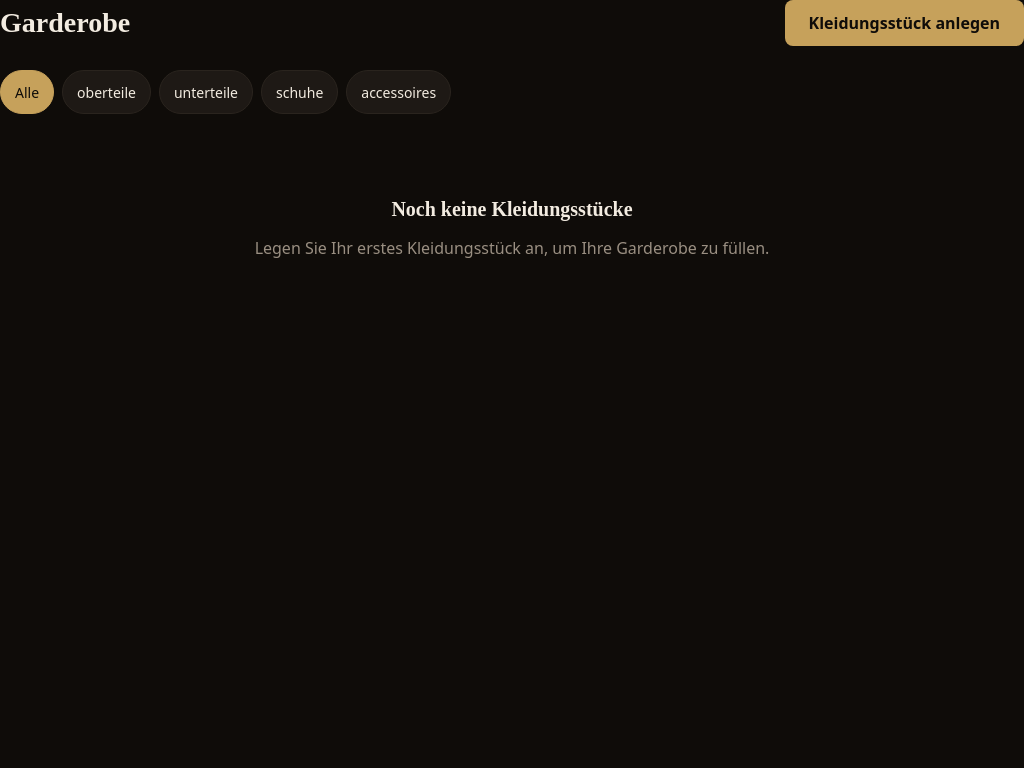
Test: WardrobePage – Anlegen › legt ein Kleidungsstück über das Formular an und zeigt es an
Expected: the heading "Noch keine Kleidungsstücke" is shown, [391,198,633,220]
Step 1. Click the button "Kleidungsstück anlegen" → (904, 23), box [785,0,1023,46]
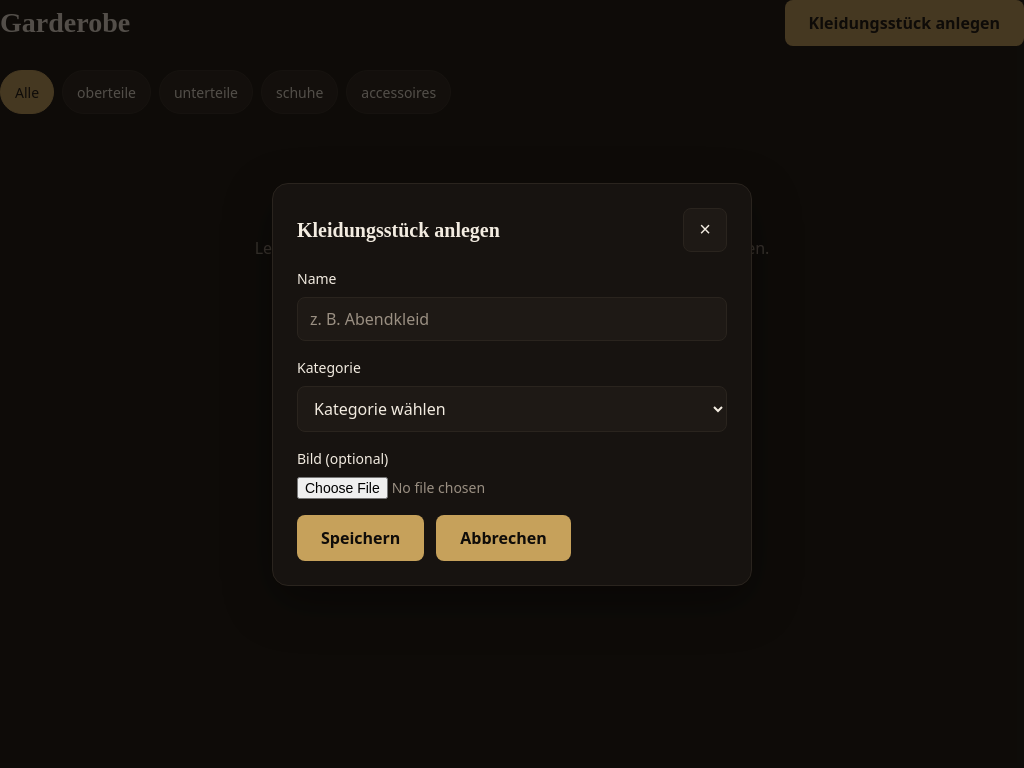
Now the field labelled "Name" is shown
Step 2. Type "Abendkleid" into the field labelled "Name" → (512, 318), box [297,296,727,340]
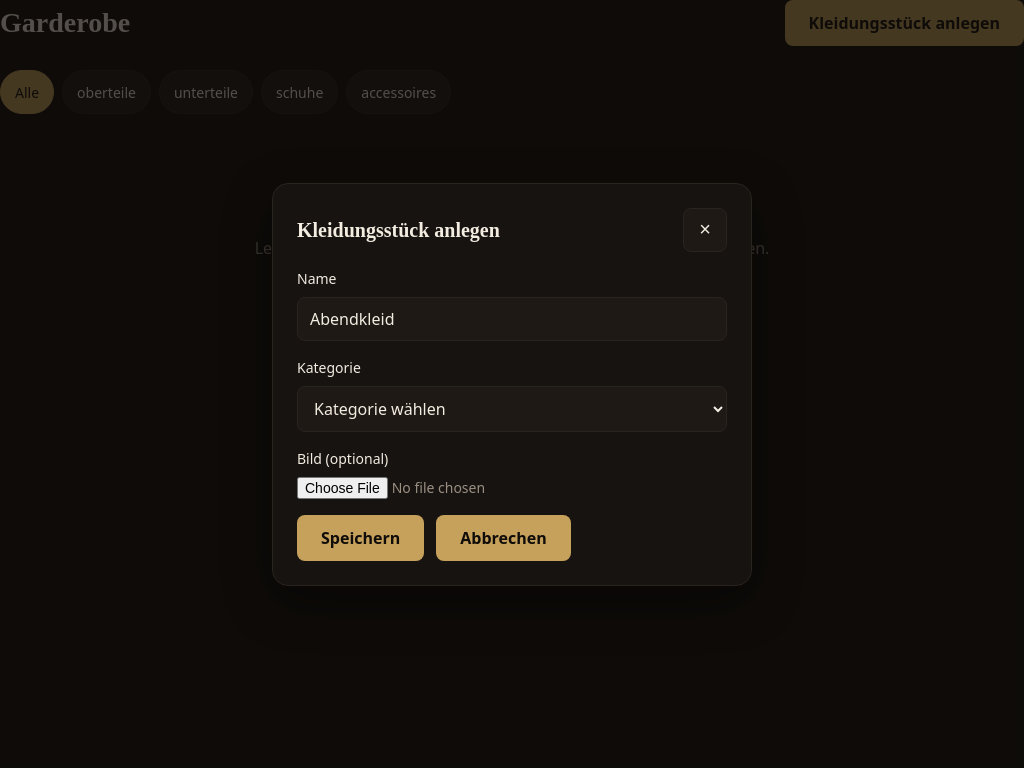
Step 3. Select "oberteile" in the dropdown labelled "Kategorie" → (512, 408), box [297,386,727,432]
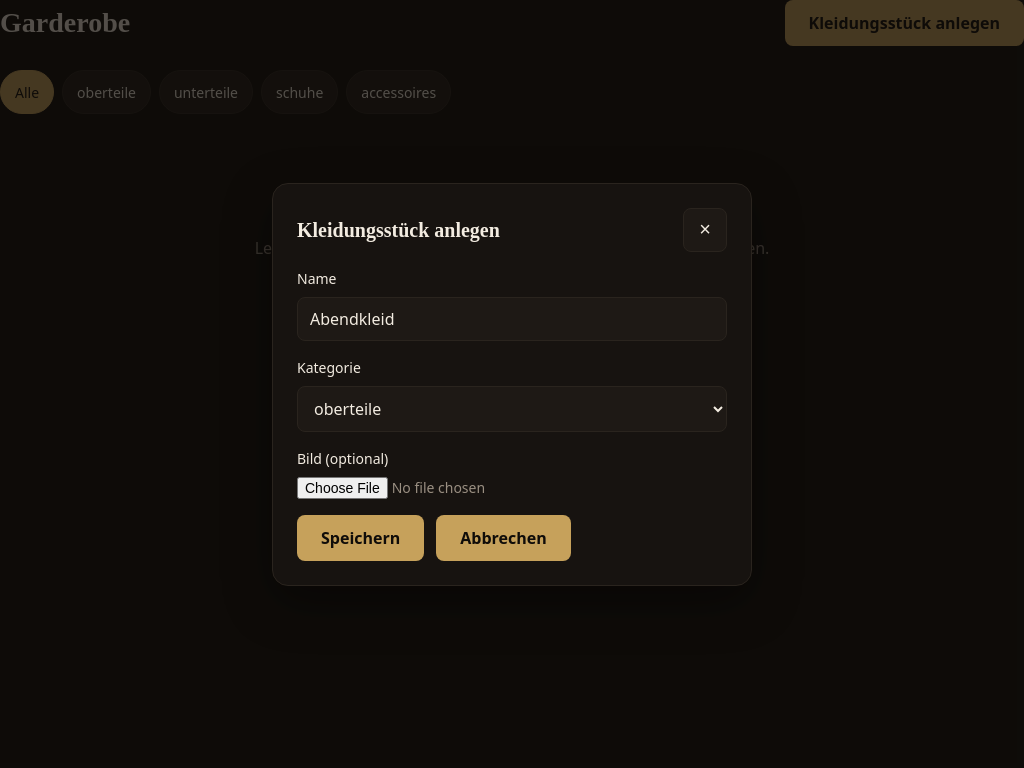
Step 4. Click the button "Speichern" → (361, 538), box [297,514,424,560]
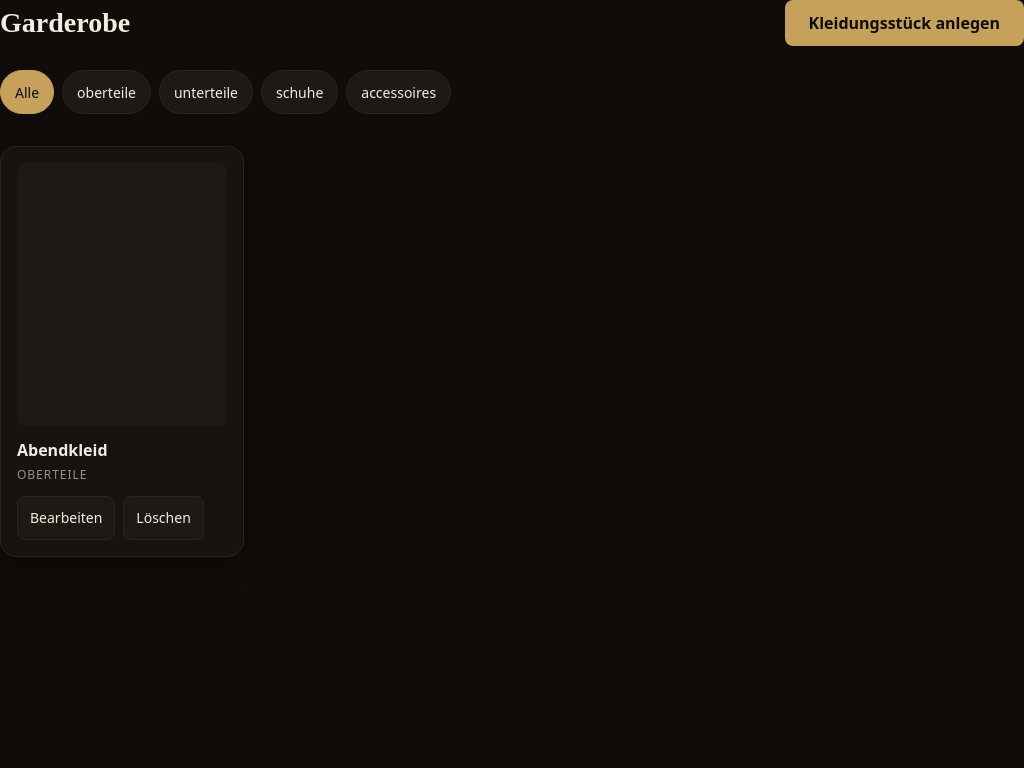
Expected: the button "oberteile" is shown, [62,70,151,114]
Now the heading "Abendkleid" is shown, box [17,438,108,460]
